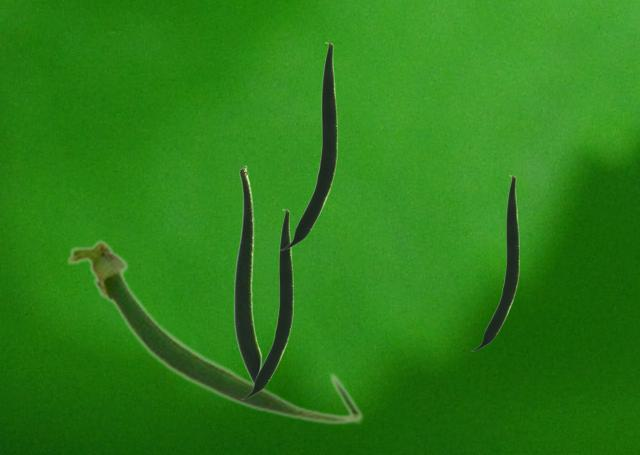french_bean: (65, 237, 363, 425), (280, 42, 336, 249), (241, 209, 292, 398), (471, 175, 518, 350), (233, 165, 261, 379)
